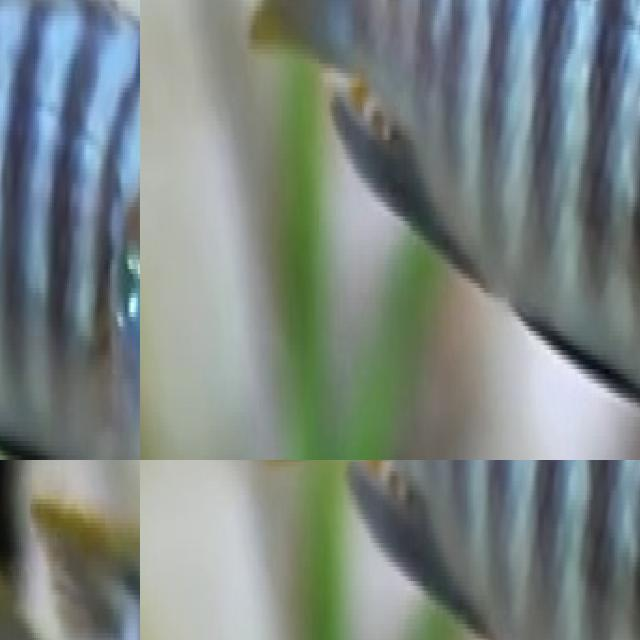fish: (242, 0, 640, 436), (248, 460, 640, 640), (0, 0, 140, 460), (0, 485, 140, 640)
